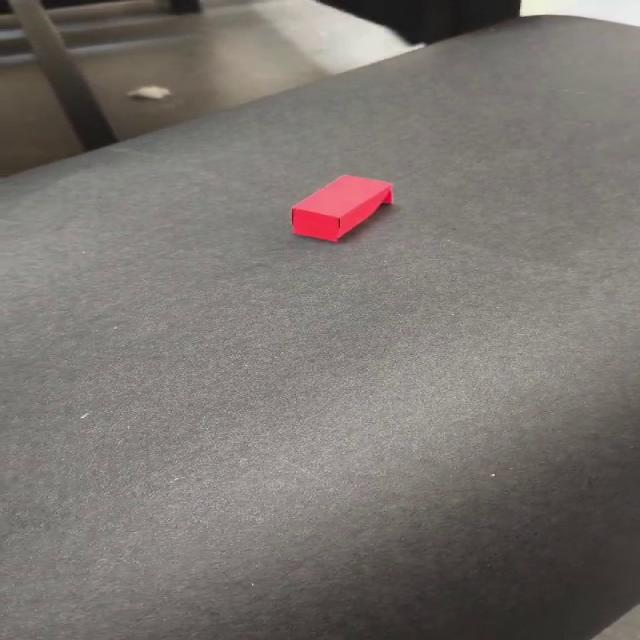red block: (290, 174, 394, 242)
